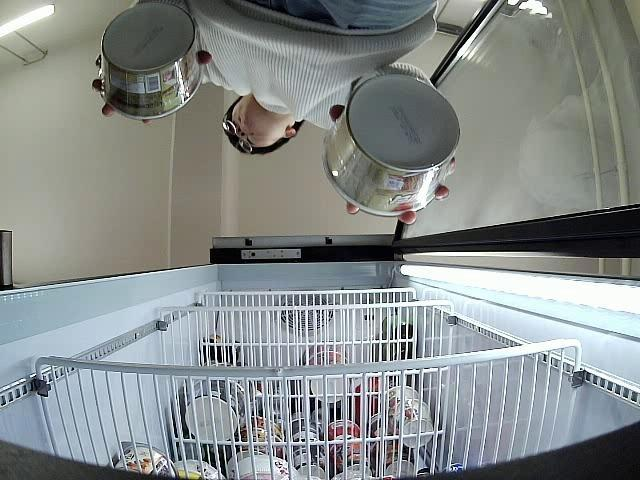03_chapagetti_L: (321, 73, 460, 216), (101, 4, 204, 119)
